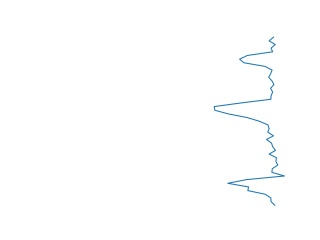underwaterNaturalLevee: (208, 34, 288, 209)
